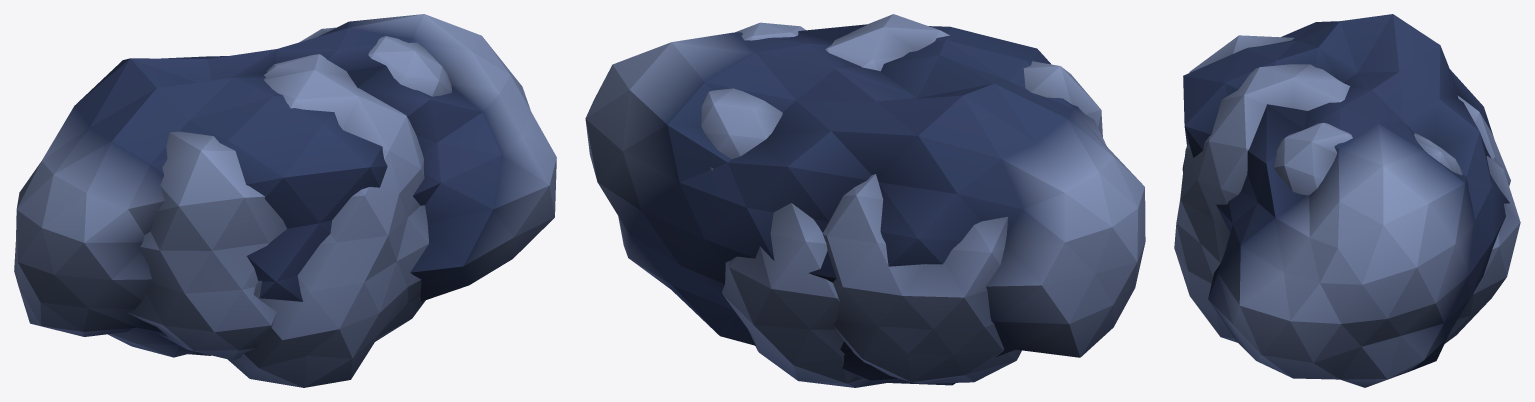
Rendered from asteroides-cosmos-C_h6ZAPt.glb.
3 renders of one model, left to right at view 1: azimuth 30°, elevation 25°; view 2: azimuth 150°, elevation 25°; view 3: azimuth 270°, elevation 25°, orthographic. The views are drawn at different scales.
Parts seen in each view (by area): view 1: Asteroide B, Asteroide A, Asteroide C; view 2: Asteroide B, Asteroide C, Asteroide A; view 3: Asteroide B, Asteroide A, Asteroide C.
Part boxes in pixels (x1,y1,x2,y2): Asteroide B: (14, 14, 556, 355); Asteroide A: (228, 54, 428, 387); Asteroide C: (108, 27, 451, 360); Asteroide B: (585, 24, 1145, 385); Asteroide C: (701, 22, 1102, 383); Asteroide A: (721, 14, 949, 387); Asteroide B: (1182, 14, 1509, 387); Asteroide A: (1174, 64, 1520, 343); Asteroide C: (1189, 35, 1510, 195).
Bounding box in the file's own units: 1.6 × 0.8886 × 0.9917.
